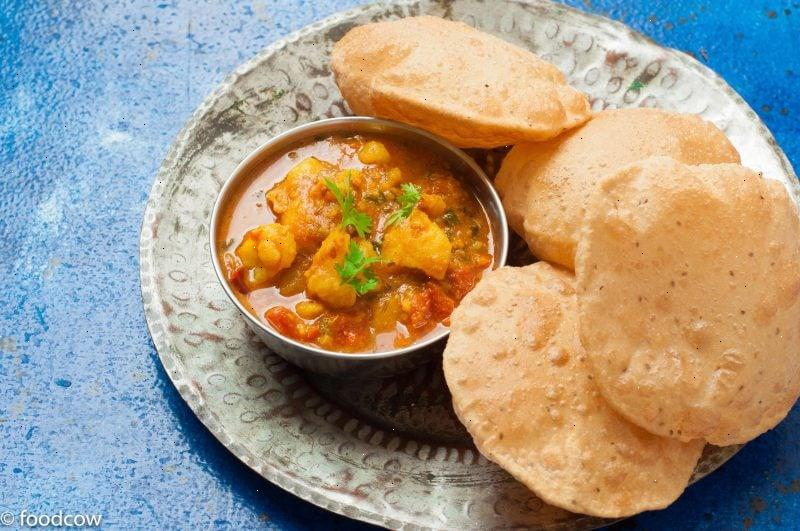aloo sabji: (245, 173, 470, 323)
